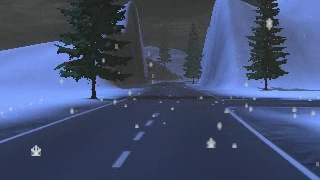Lane: (0, 81, 319, 179)
